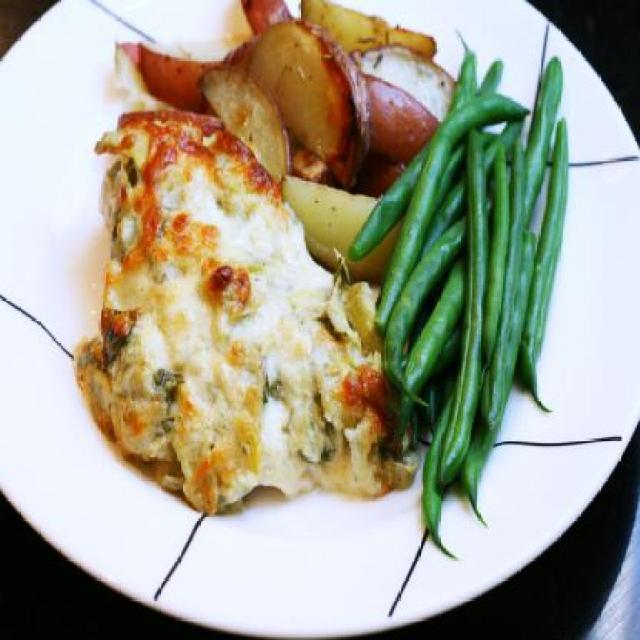Potato: (280, 174, 405, 283)
